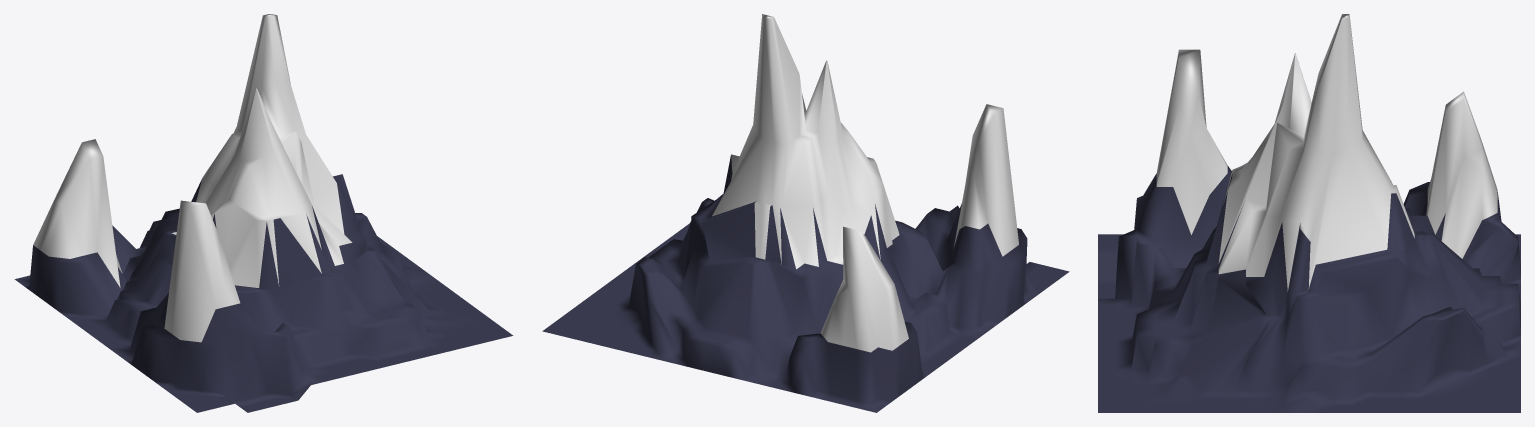
Rendered from FMP_Mountain_Shaded.fbx.
3 renders of one model, left to right at view 1: azimuth 30°, elevation 25°; view 2: azimuth 150°, elevation 25°; view 3: azimuth 270°, elevation 25°, orthographic. The views are drawn at different scales.
Visible parts, largest first — view 1: pPlane3; view 2: pPlane3; view 3: pPlane3.
Part boxes in pixels (x1=…): pPlane3: x1=14, y1=14, x2=513, y2=412; pPlane3: x1=542, y1=14, x2=1069, y2=412; pPlane3: x1=1098, y1=14, x2=1520, y2=412.
Size of the model in its own units: 1877 by 1632 by 1877.
